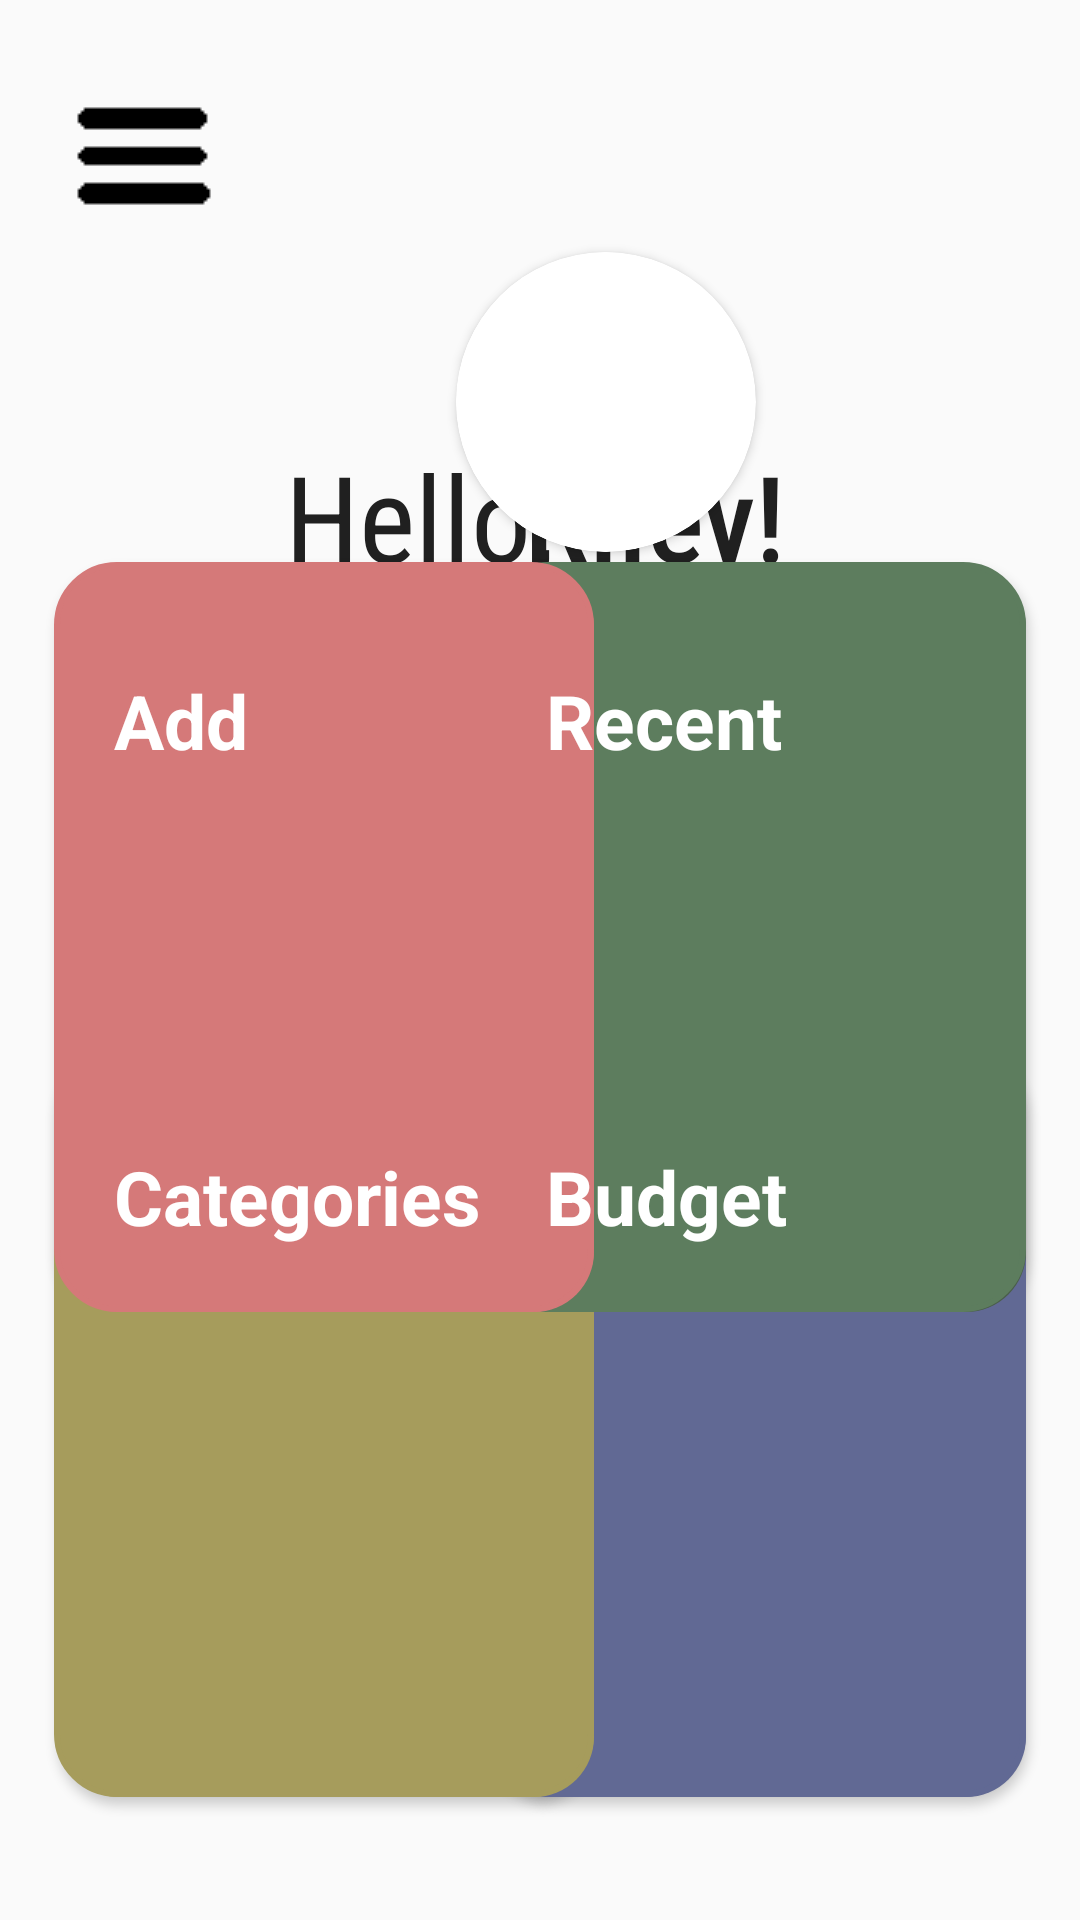

Where to tap for icons on this 1080 x 1920 app screen, as point (x, y):
hamburger two: point (144, 156)
